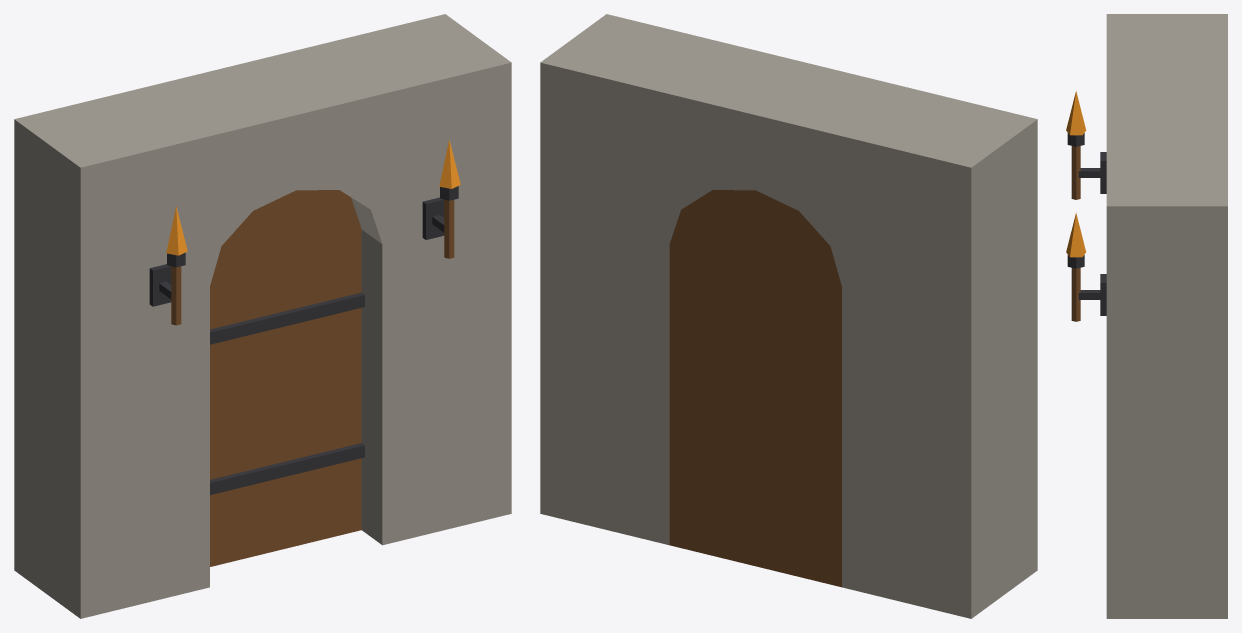
Rendered from Donzon_Drzwi_Pochodnie.fbx.
3 views of the same model, side by side, from view 1: azimuth 30°, elevation 25°; view 2: azimuth 150°, elevation 25°; view 3: azimuth 270°, elevation 25° (orthographic). The views are drawn at different scales.
Parts seen in each view (by area): view 1: Donzon_Drzwi_Pochodnie; view 2: Donzon_Drzwi_Pochodnie; view 3: Donzon_Drzwi_Pochodnie.
Boxes of the visible parts, x1,y1,x2,y2 form: Donzon_Drzwi_Pochodnie: [14, 14, 511, 618]; Donzon_Drzwi_Pochodnie: [540, 14, 1037, 618]; Donzon_Drzwi_Pochodnie: [1066, 14, 1227, 618].
Bounding box in the file's own units: 3 × 3 × 1.07.
